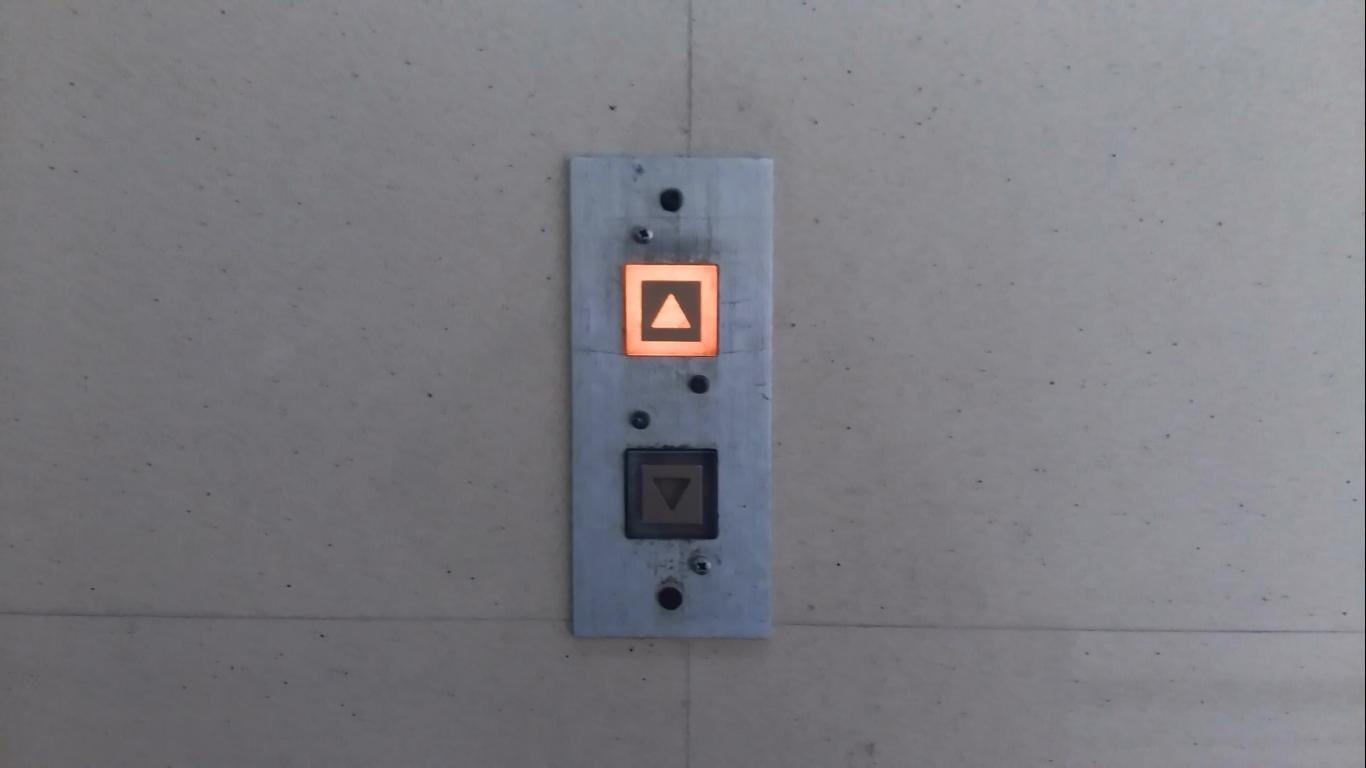down: (621, 446, 722, 544)
up: (618, 259, 722, 359)
